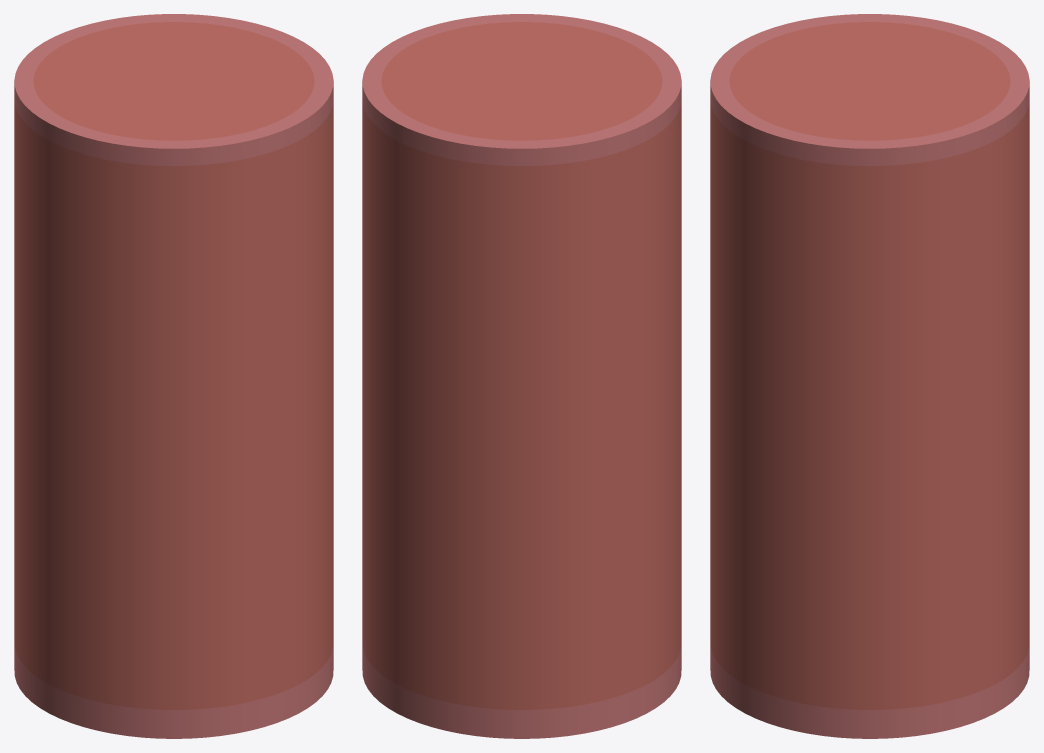
Rendered from step_02.glb.
3 views of the same model, side by side, from view 1: azimuth 30°, elevation 25°; view 2: azimuth 150°, elevation 25°; view 3: azimuth 270°, elevation 25° (orthographic).
Visible parts, largest first — view 1: part__float hull, removed__float hull; view 2: part__float hull, removed__float hull; view 3: part__float hull, removed__float hull.
Boxes of the visible parts, x1,y1,x2,y2 form: part__float hull: (14, 22, 333, 709); removed__float hull: (14, 14, 333, 738); part__float hull: (362, 22, 681, 709); removed__float hull: (362, 14, 681, 738); part__float hull: (710, 22, 1029, 709); removed__float hull: (710, 14, 1029, 738).
Size of the model in its own units: 500 by 1020 by 500.
